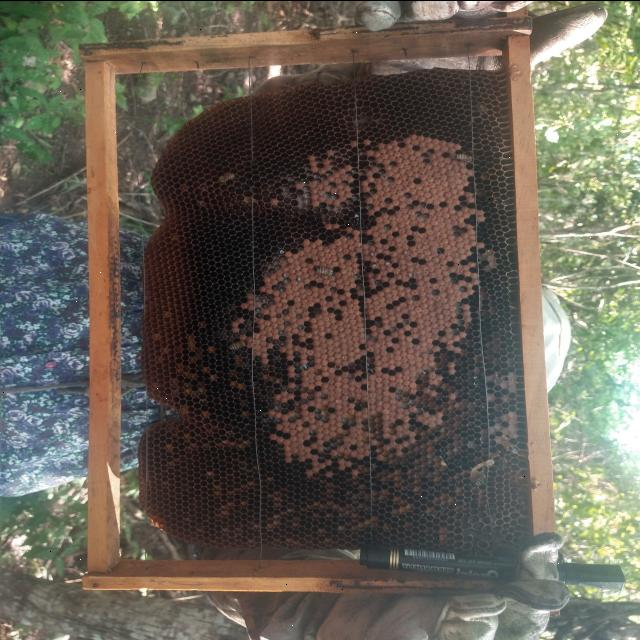cria: (215, 129, 486, 476)
marco: (110, 54, 508, 567)
